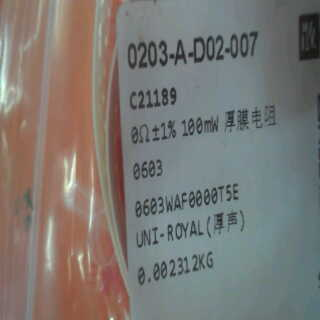0R: (126, 116, 178, 182)
